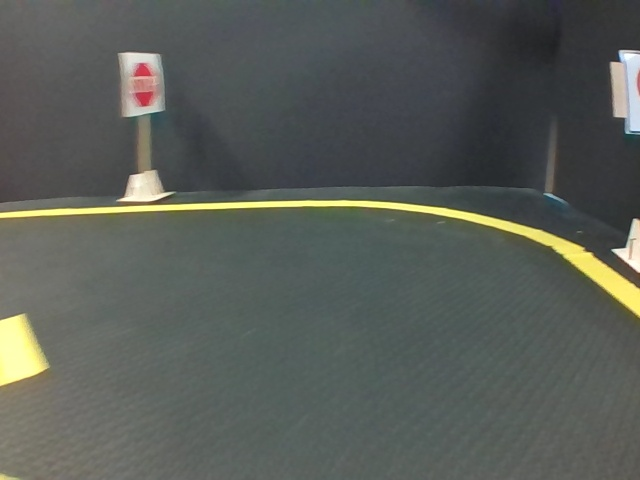stop: (120, 53, 162, 113)
